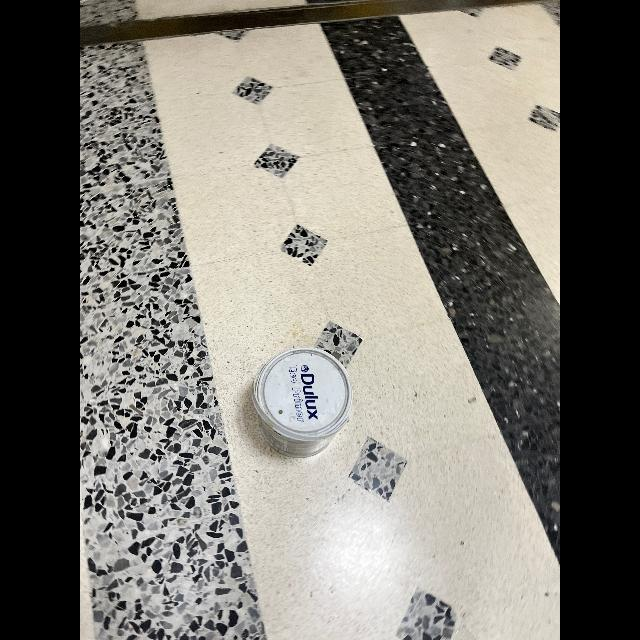paint_bucket: (235, 346, 368, 462)
